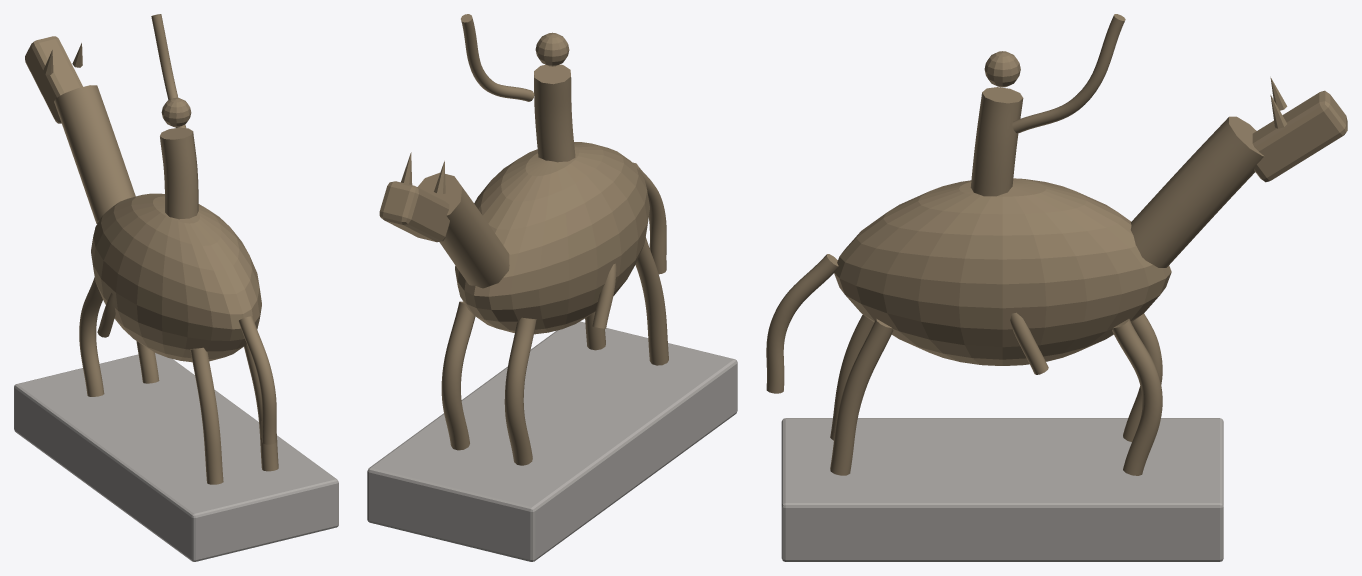
File: equestrian.glb
3 views of the same model, side by side, from view 1: azimuth 30°, elevation 25°; view 2: azimuth 150°, elevation 25°; view 3: azimuth 270°, elevation 25° (orthographic). The views are drawn at different scales.
Parts seen in each view (by area): view 1: equestrian; view 2: equestrian; view 3: equestrian.
Part boxes in pixels (x1,y1,x2,y2): equestrian: (14, 14, 338, 561); equestrian: (367, 14, 737, 561); equestrian: (766, 14, 1347, 561).
Bounding box in the file's own units: 1.6 × 4.42 × 4.47.
